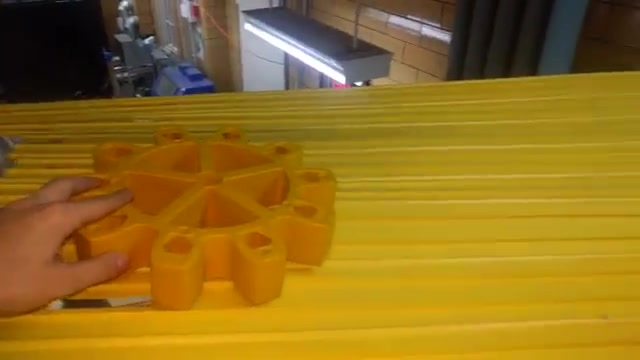gear: (56, 121, 349, 312)
